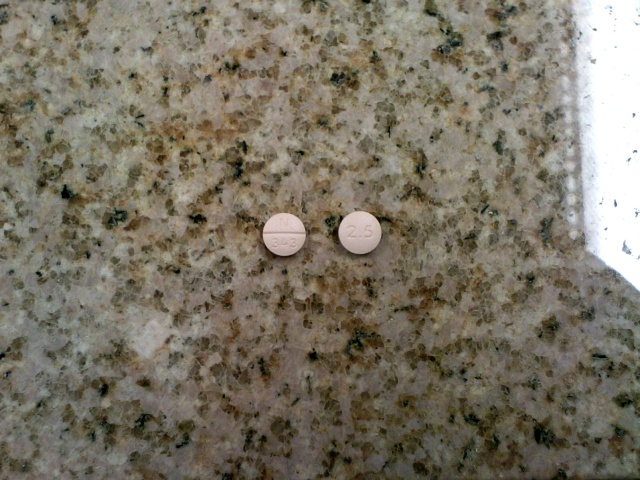2.5: (346, 222, 373, 240)
3: (287, 237, 298, 250), (271, 237, 279, 249)
4: (280, 237, 288, 249)
N: (276, 216, 290, 230)
|: (262, 230, 306, 236)
